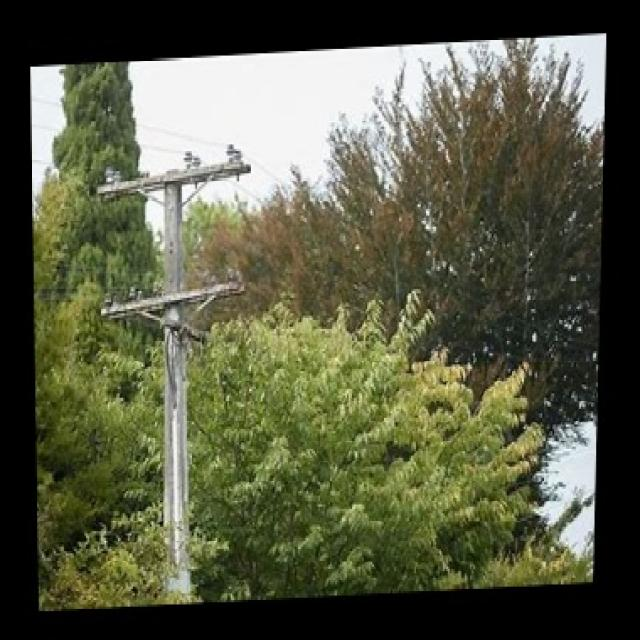utility poles: (98, 148, 264, 581)
